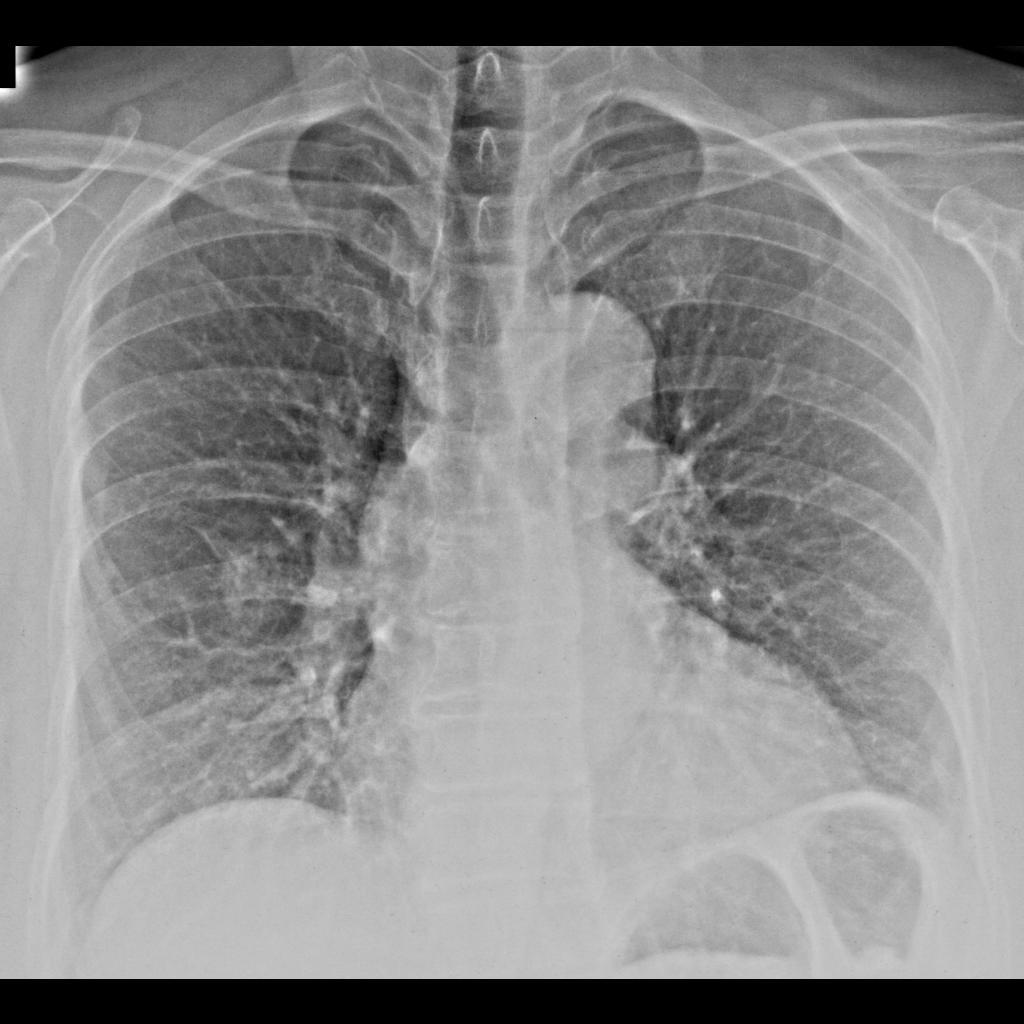Nodule: (211, 547, 288, 623)
